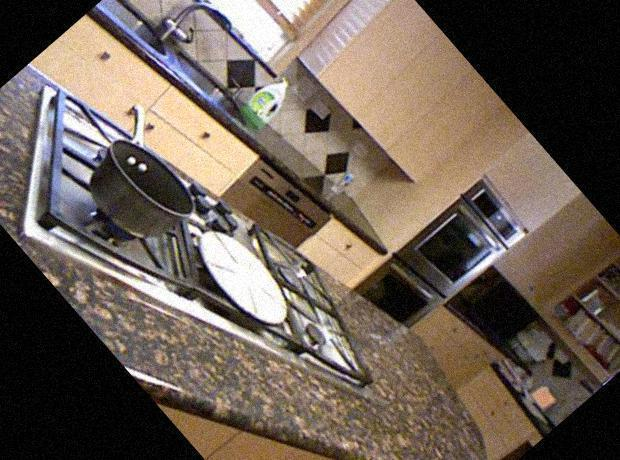Lavaplatos: (91, 0, 296, 147)
